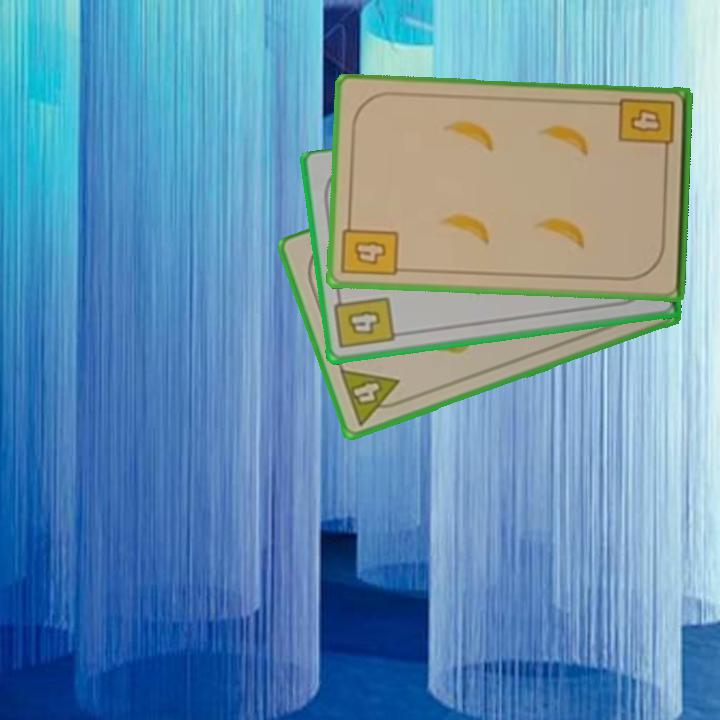4b: (331, 289, 397, 352), (616, 94, 678, 161), (338, 215, 401, 279)
4p: (336, 365, 409, 428)
